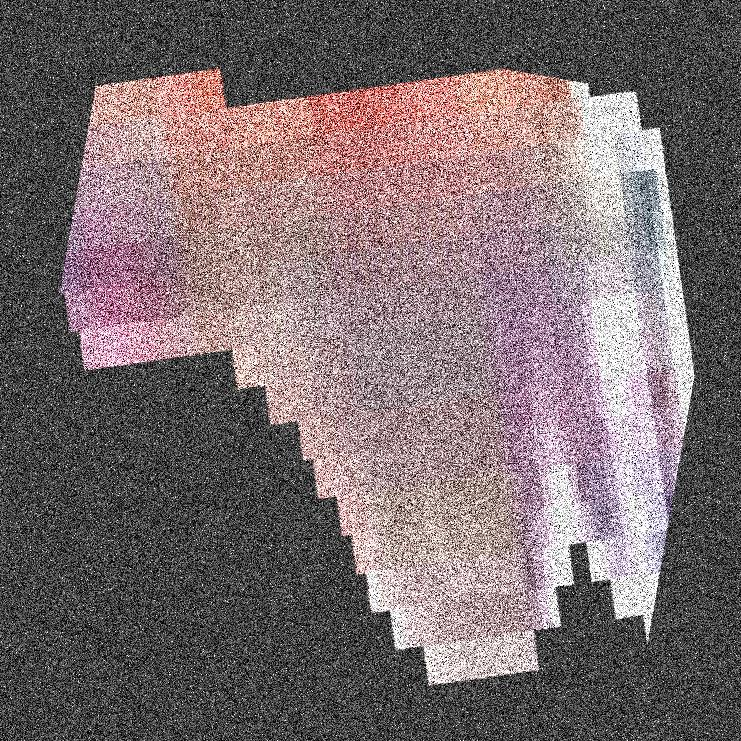Oculos: (314, 0, 740, 740)
